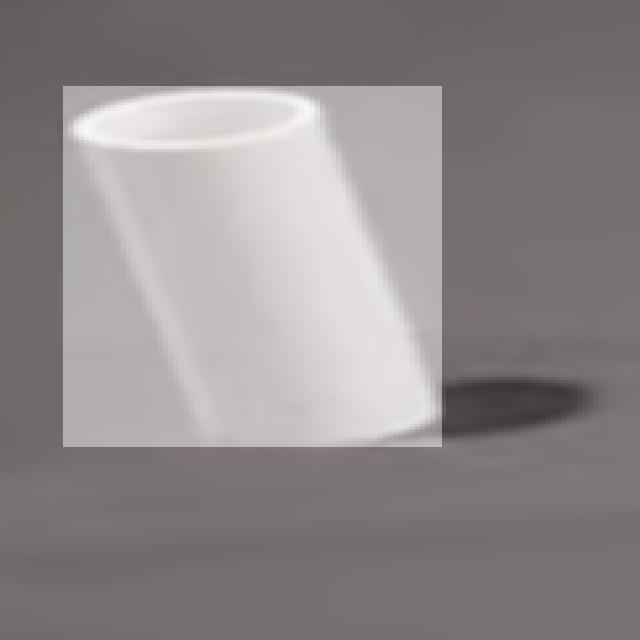Coral: (63, 86, 442, 447)
